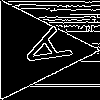A: (8, 25, 73, 77)
